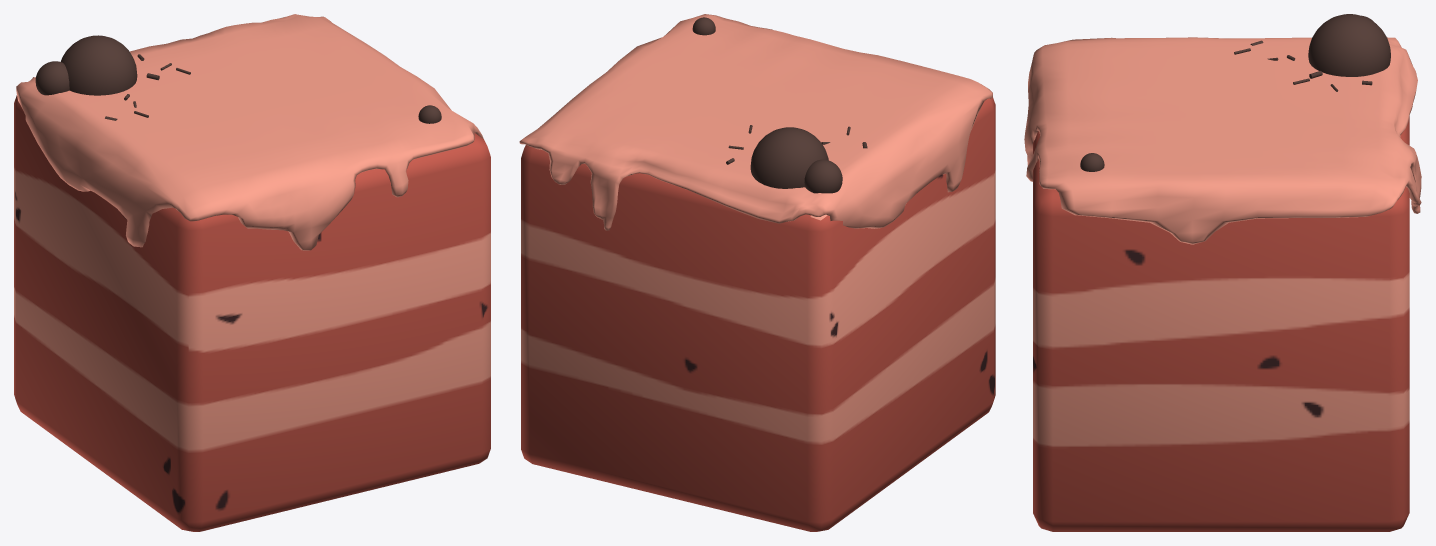
Rendered from Choco_2.fbx.
3 renders of one model, left to right at view 1: azimuth 30°, elevation 25°; view 2: azimuth 150°, elevation 25°; view 3: azimuth 270°, elevation 25°, orthographic. The views are drawn at different scales.
Visible parts, largest first — view 1: Cube, Cube.001, Sphere.001, Sphere; view 2: Cube, Cube.001, Sphere.001, Sphere; view 3: Cube, Cube.001, Sphere.001.
Part boxes in pixels (x1,y1,x2,y2): Cube: (14,95,490,531); Cube.001: (16,14,483,250); Sphere.001: (60,35,137,95); Sphere: (35,61,69,95); Cube: (521,97,995,531); Cube.001: (519,14,992,230); Sphere.001: (750,127,828,188); Sphere: (804,159,842,193); Cube: (1033,116,1409,531); Cube.001: (1024,37,1421,244); Sphere.001: (1308,14,1390,76).
Size of the model in its own units: 208 by 231 by 211.
3 materials, 2 textured.
